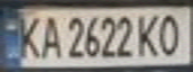2: (100, 11, 121, 60), (115, 11, 136, 60), (63, 12, 84, 60)
6: (81, 12, 103, 60)
A: (36, 11, 63, 60)
K: (15, 11, 45, 60), (136, 10, 163, 58)
O: (154, 10, 187, 57)
